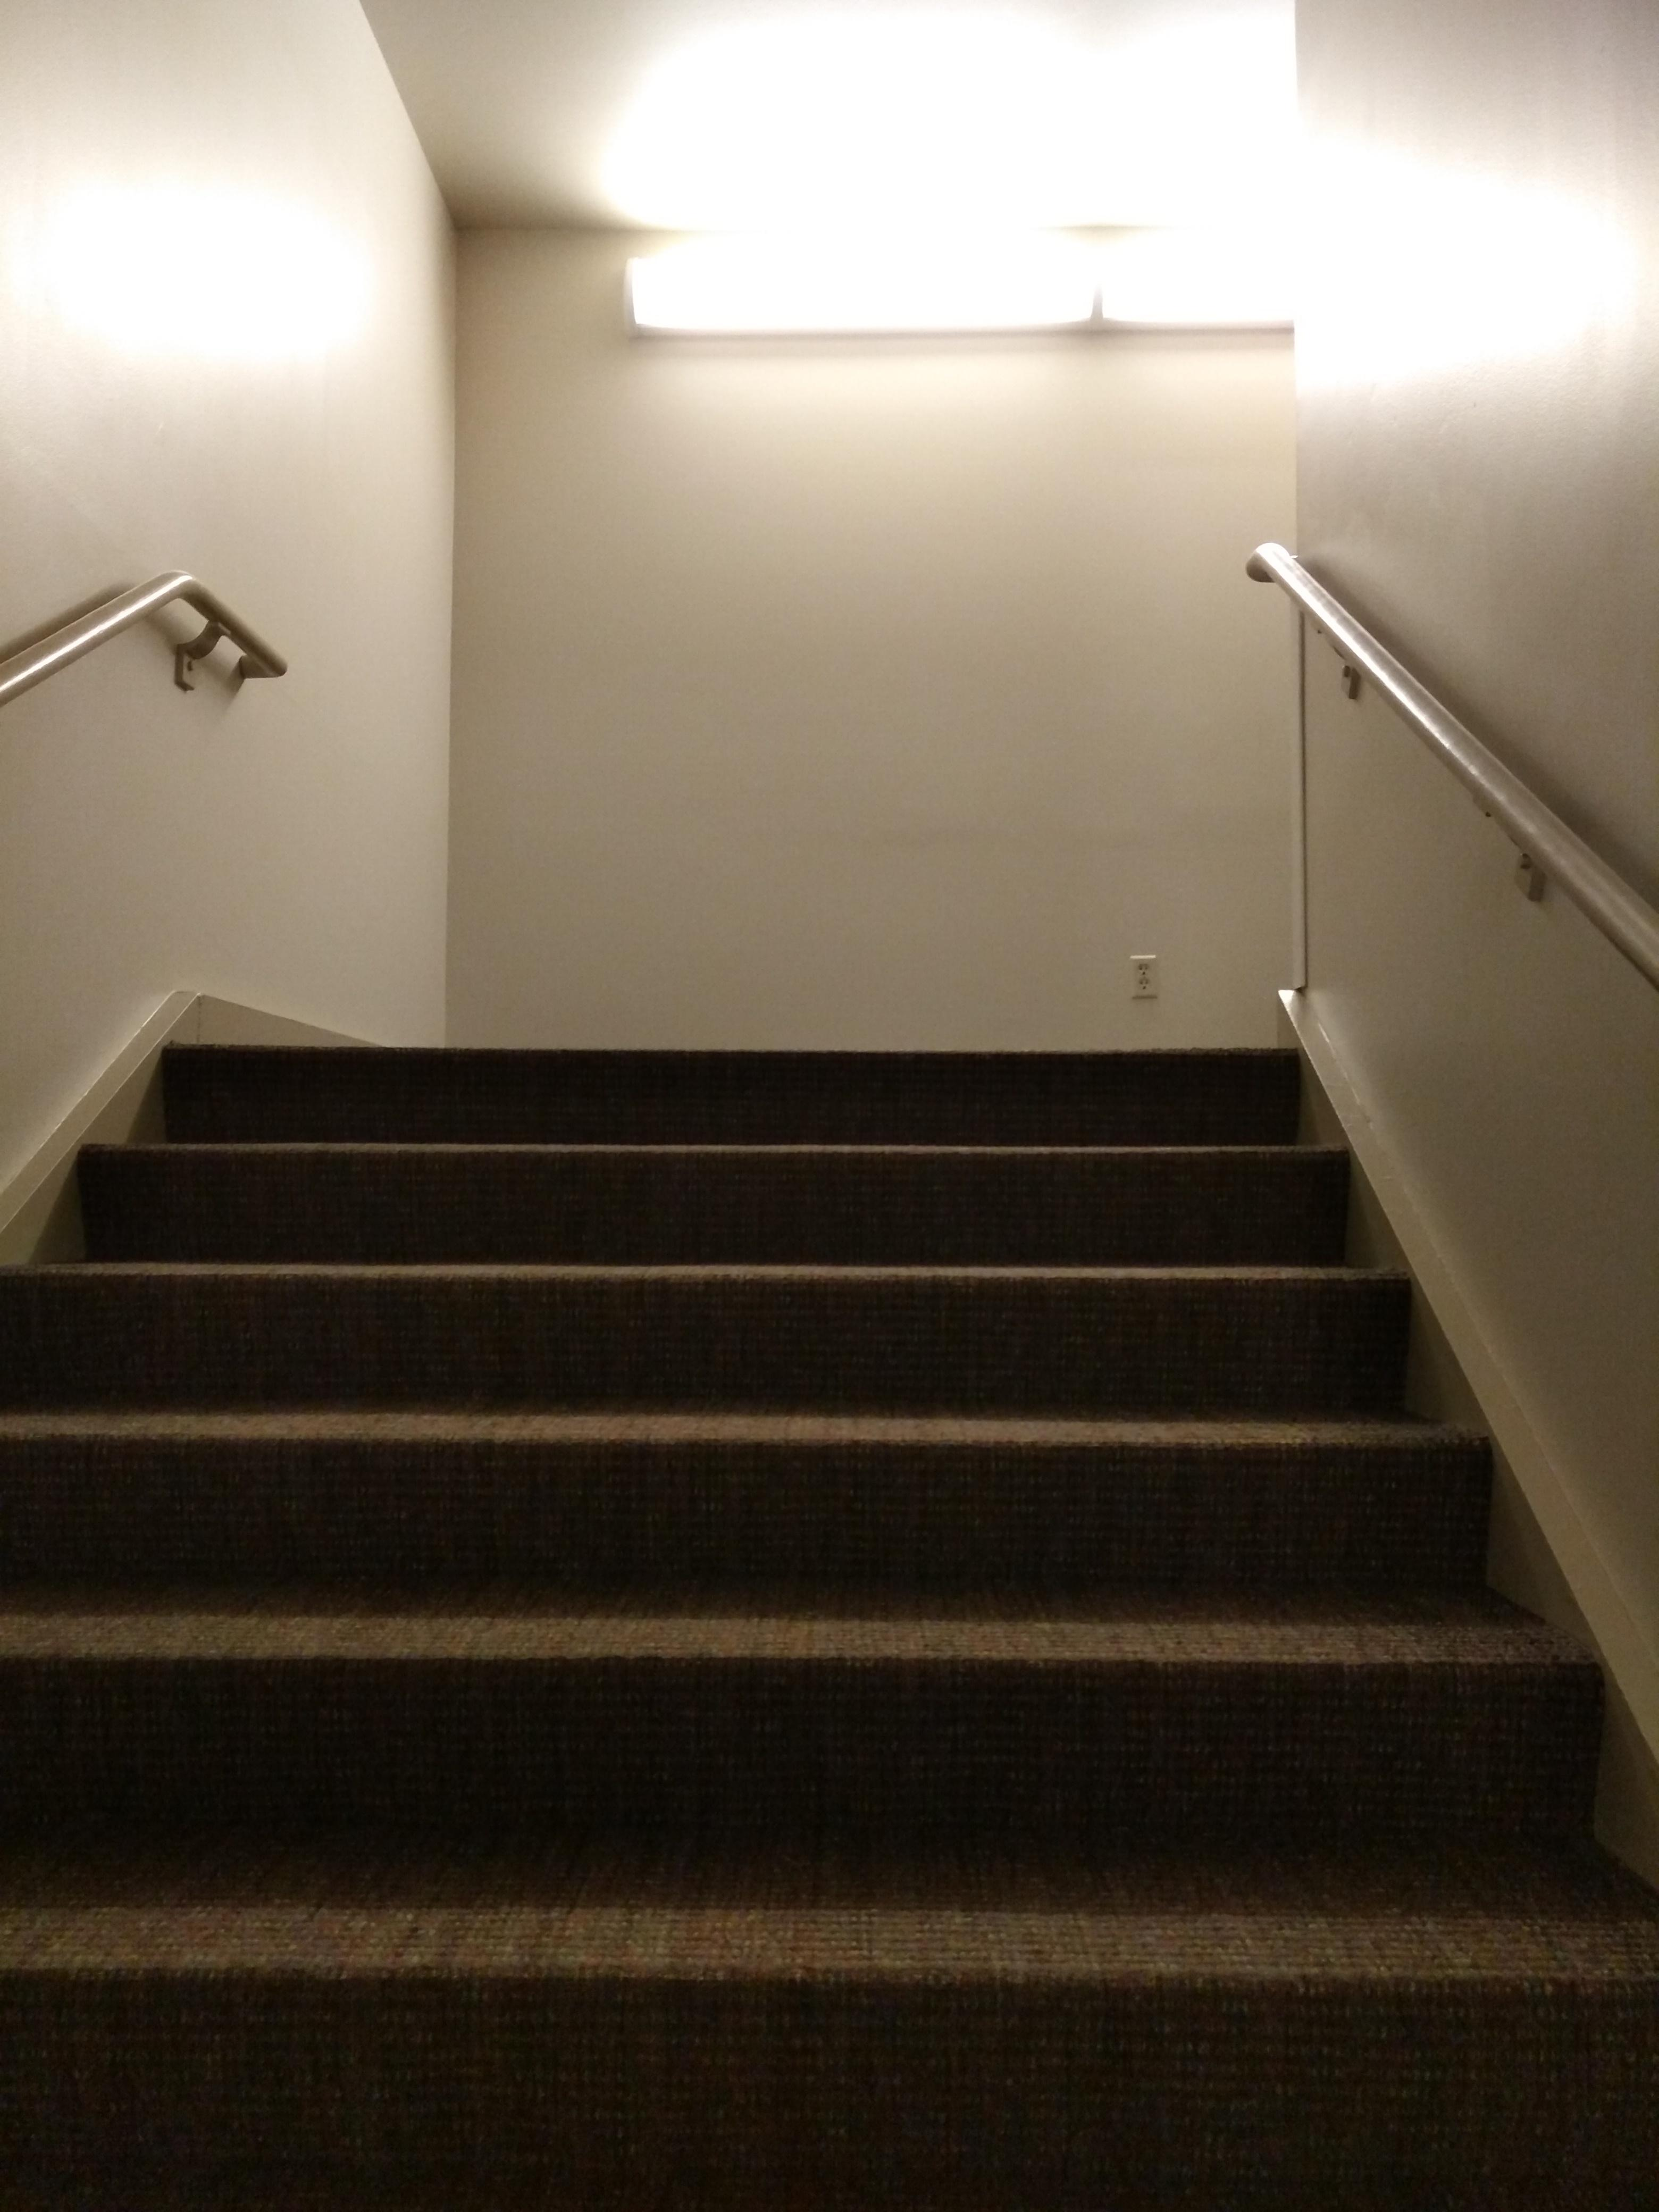stairs_up: (12, 967, 1649, 2114)
